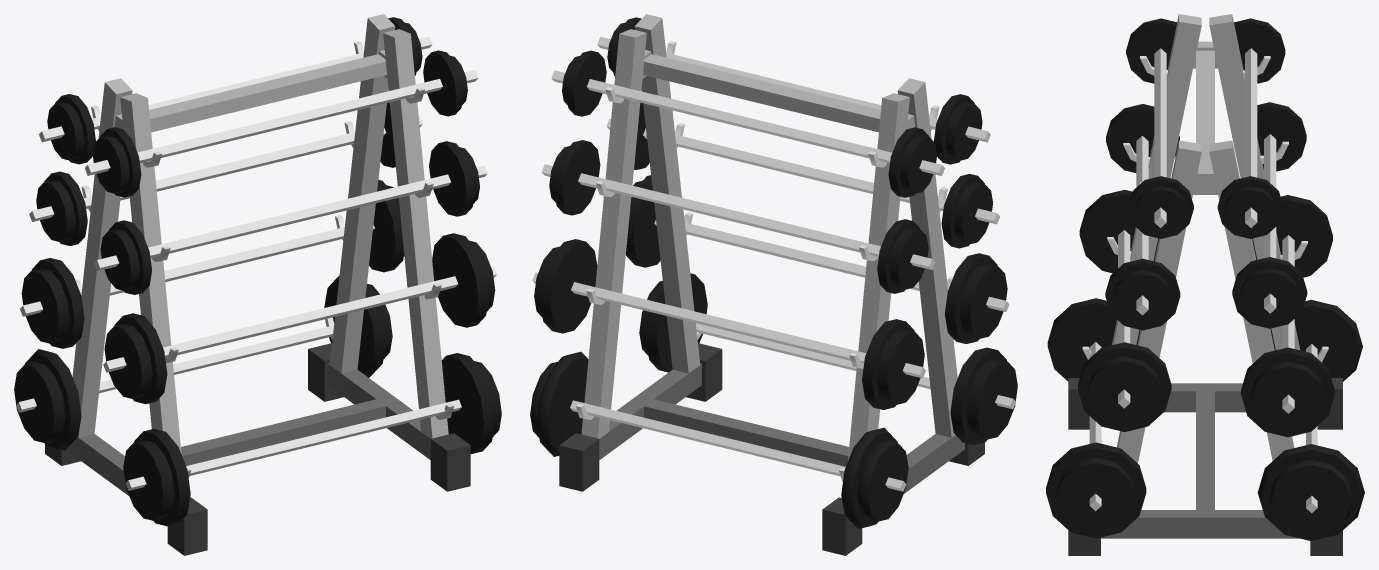
Rendered from training_item_006.glb.
3 renders of one model, left to right at view 1: azimuth 30°, elevation 25°; view 2: azimuth 150°, elevation 25°; view 3: azimuth 270°, elevation 25°, orthographic.
Visible parts, largest first — view 1: training_item_006; view 2: training_item_006; view 3: training_item_006.
Boxes of the visible parts, box(x1,y1,x2,y2) form: training_item_006: box(14, 14, 501, 555); training_item_006: box(530, 14, 1017, 555); training_item_006: box(1046, 14, 1364, 555).
Size of the model in its own units: 1.25 by 1.27 by 0.9041.
Materials: 1 (1 with a texture image).
